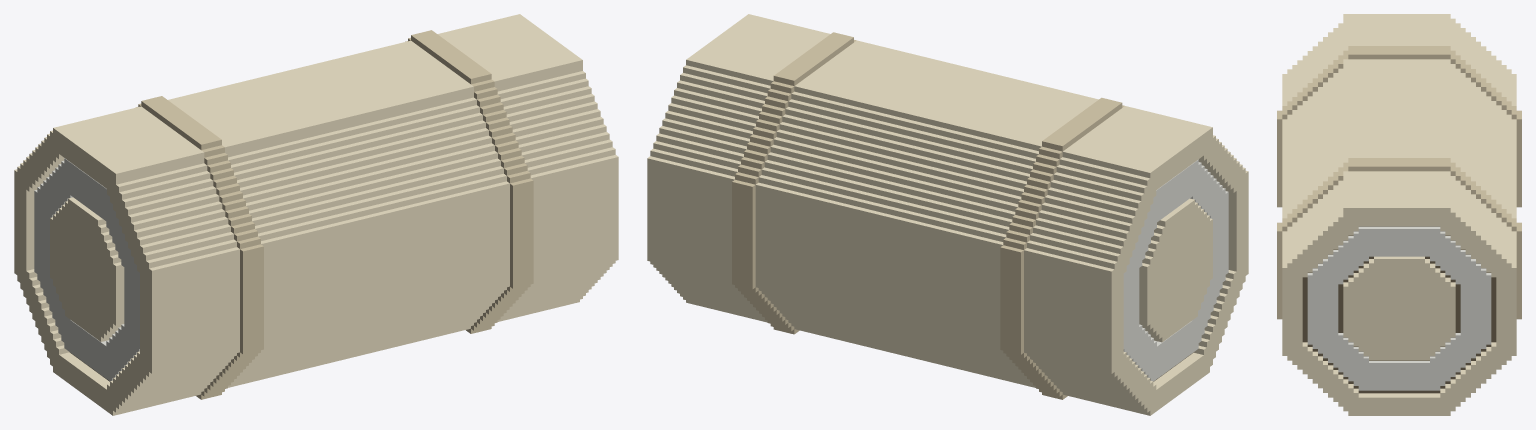
The model's file is pillow.glb.
The picture shows the model from 3 angles, left to right: view 1: azimuth 30°, elevation 25°; view 2: azimuth 150°, elevation 25°; view 3: azimuth 270°, elevation 25°; orthographic projection. The views are drawn at different scales.
Parts seen in each view (by area): view 1: pillow:compound; view 2: pillow:compound; view 3: pillow:compound.
Part boxes in pixels (x1,y1,x2,y2): pillow:compound: (14, 14, 618, 415); pillow:compound: (647, 14, 1248, 415); pillow:compound: (1277, 14, 1521, 415).
Bounding box in the file's own units: 0.36 × 0.188 × 0.192.
